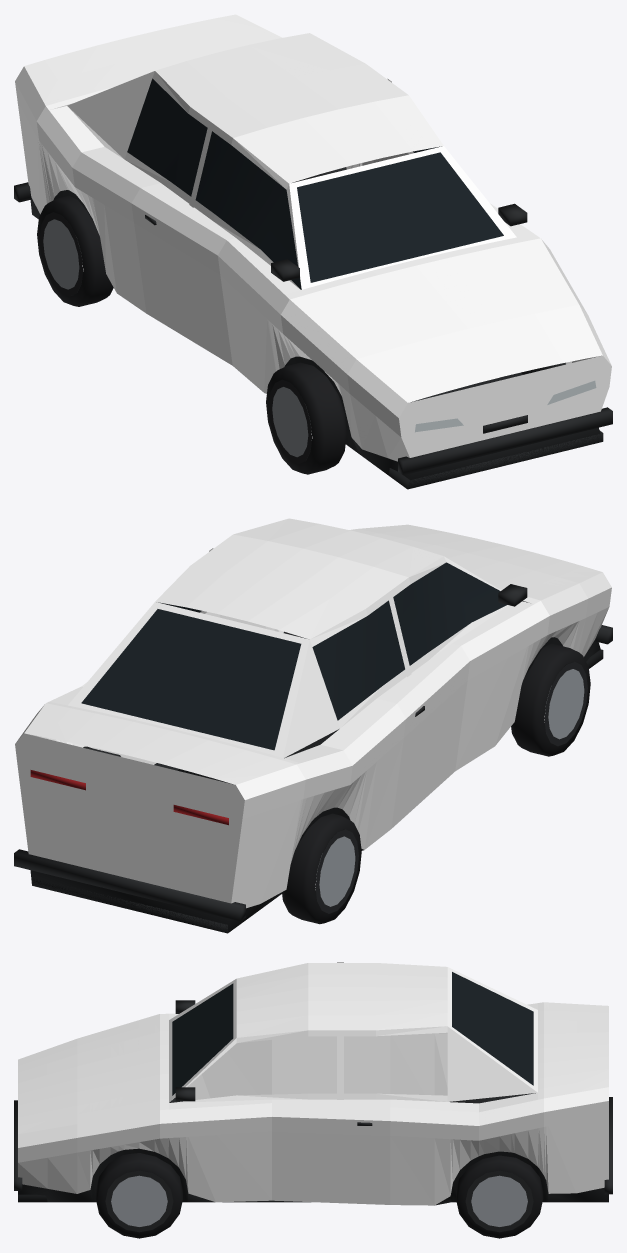
File: norrvik_favo.glb
The picture shows the model from 3 angles, top to bottom: view 1: azimuth 30°, elevation 25°; view 2: azimuth 150°, elevation 25°; view 3: azimuth 270°, elevation 25°; orthographic projection. The views are drawn at different scales.
Parts seen in each view (by area): view 1: Body_Paint, Body_Details, Mount_FrontLeft_Wheel_Details, Mount_RearLeft_Wheel_Details; view 2: Body_Paint, Body_Details, Mount_FrontLeft_Wheel_Details, Mount_RearLeft_Wheel_Details; view 3: Body_Paint, Body_Details, Mount_FrontRight_Wheel_Details, Mount_RearRight_Wheel_Details.
Boxes of the visible parts, <box> form: Body_Paint: <box>15,14,611,461</box>; Body_Details: <box>14,78,612,489</box>; Mount_FrontLeft_Wheel_Details: <box>266,362,346,474</box>; Mount_RearLeft_Wheel_Details: <box>37,195,113,306</box>; Body_Paint: <box>15,518,611,908</box>; Body_Details: <box>14,562,612,933</box>; Mount_FrontLeft_Wheel_Details: <box>511,643,590,756</box>; Mount_RearLeft_Wheel_Details: <box>282,813,361,924</box>; Body_Paint: <box>18,962,608,1205</box>; Body_Details: <box>14,972,612,1205</box>; Mount_FrontRight_Wheel_Details: <box>95,1153,182,1238</box>; Mount_RearRight_Wheel_Details: <box>456,1155,543,1238</box>.
Bounding box in the file's own units: 1.69 × 1.42 × 3.97.
Materials: 2 (1 with a texture image).
